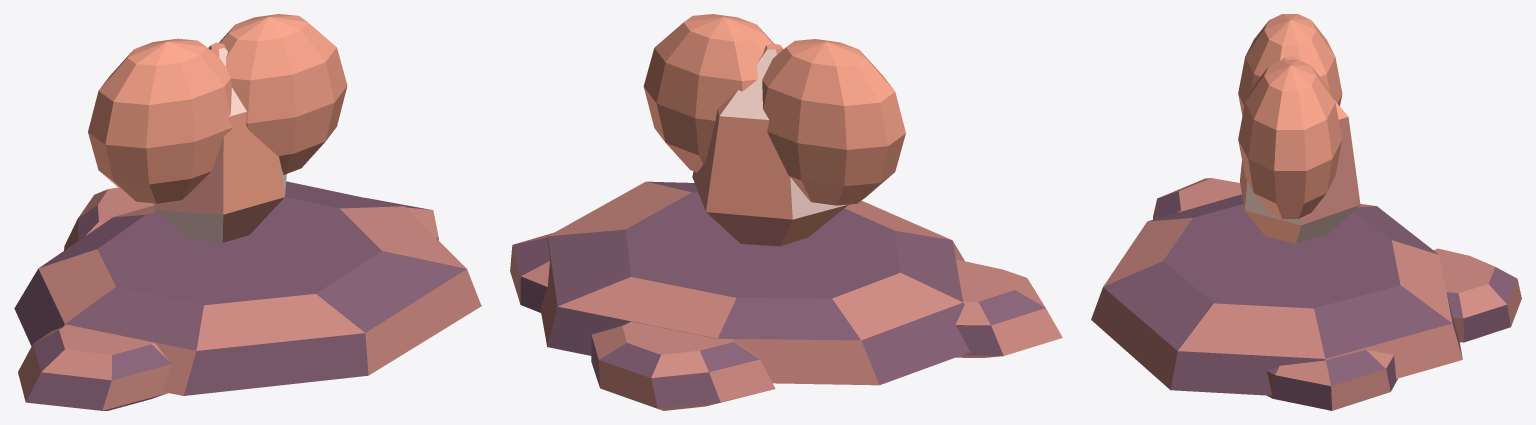
Rendered from BH_ORE_O12_Coracao_Lanternado_V01.glb.
3 views of the same model, side by side, from view 1: azimuth 30°, elevation 25°; view 2: azimuth 150°, elevation 25°; view 3: azimuth 270°, elevation 25° (orthographic). The views are drawn at different scales.
Visible parts, largest first — view 1: Bedrock | primary.001, Heart upper lobe 1.001, Heart upper lobe 2.001, Bedrock | shoulder 1.001, Heart lower point.001, Bedrock | shoulder 3.001, Bedrock | shoulder 2.001; view 2: Bedrock | primary.001, Heart upper lobe 1.001, Heart lower point.001, Heart upper lobe 2.001, Bedrock | shoulder 3.001, Bedrock | shoulder 1.001, Bedrock | shoulder 2.001; view 3: Bedrock | primary.001, Heart upper lobe 2.001, Bedrock | shoulder 2.001, Bedrock | shoulder 3.001, Heart lower point.001, Heart upper lobe 1.001, Bedrock | shoulder 1.001.
Part boxes in pixels (x1,y1,x2,y2): Bedrock | primary.001: [14, 181, 481, 395]; Heart upper lobe 1.001: [88, 38, 233, 203]; Heart upper lobe 2.001: [219, 14, 347, 174]; Bedrock | shoulder 1.001: [18, 325, 171, 410]; Heart lower point.001: [154, 42, 286, 242]; Bedrock | shoulder 3.001: [64, 187, 153, 250]; Bedrock | shoulder 2.001: [365, 197, 438, 240]; Bedrock | primary.001: [540, 181, 969, 385]; Heart upper lobe 1.001: [762, 39, 905, 205]; Heart lower point.001: [692, 43, 848, 246]; Heart upper lobe 2.001: [643, 14, 773, 172]; Bedrock | shoulder 3.001: [591, 321, 775, 410]; Bedrock | shoulder 1.001: [955, 260, 1062, 357]; Bedrock | shoulder 2.001: [510, 232, 553, 312]; Bedrock | primary.001: [1091, 194, 1462, 395]; Heart upper lobe 2.001: [1238, 59, 1342, 218]; Bedrock | shoulder 2.001: [1266, 350, 1397, 410]; Bedrock | shoulder 3.001: [1434, 248, 1521, 342]; Heart lower point.001: [1240, 55, 1360, 243]; Heart upper lobe 1.001: [1238, 14, 1342, 115]; Bedrock | shoulder 1.001: [1153, 178, 1241, 219].
Size of the model in its own units: 2.64 by 1.57 by 2.23.
